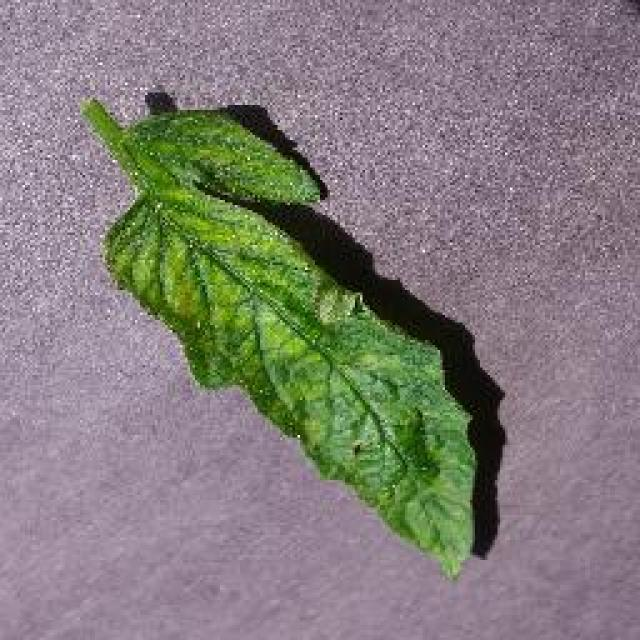Tomato___Tomato_mosaic_virus: (85, 100, 472, 575)
